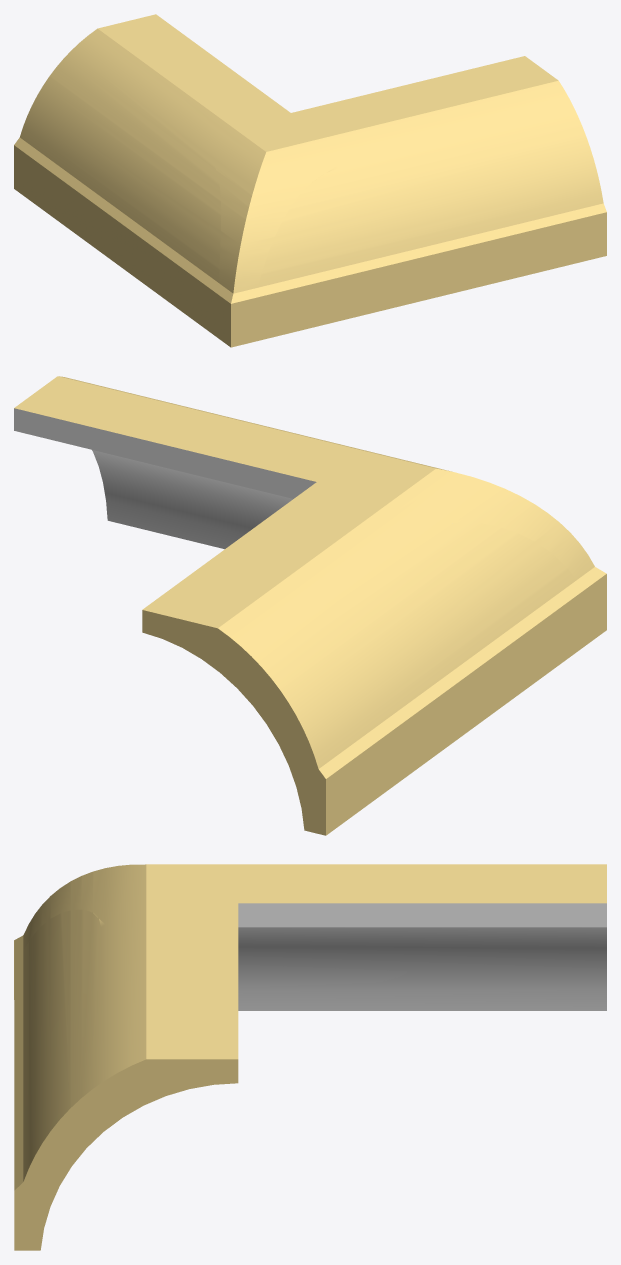
3 views of the same model, one above another, from view 1: azimuth 30°, elevation 25°; view 2: azimuth 150°, elevation 25°; view 3: azimuth 270°, elevation 25° (orthographic). The views are drawn at different scales.
Visible parts, largest first — view 1: Component#5_001; view 2: Component#5_001; view 3: Component#5_001.
Part boxes in pixels (x1,y1,x2,y2): Component#5_001: [14, 14, 606, 347]; Component#5_001: [14, 376, 606, 835]; Component#5_001: [14, 864, 606, 1250].
Bounding box in the file's own units: 5.62 × 2 × 5.62.
